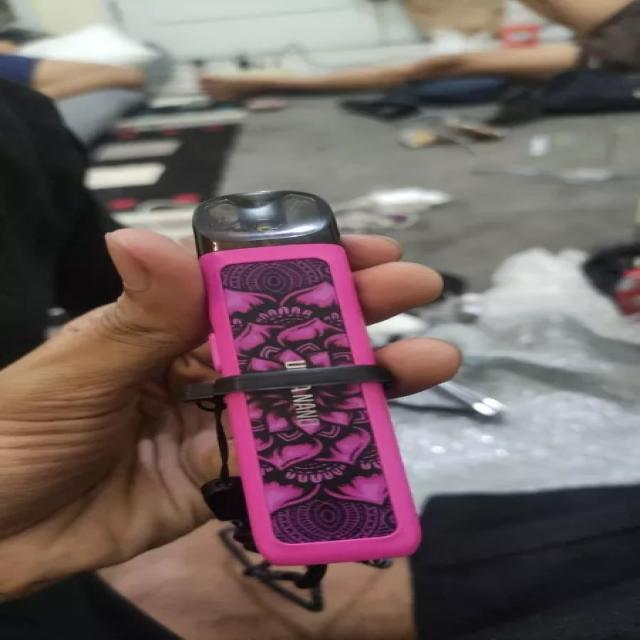Hazard: (190, 190, 427, 562)
